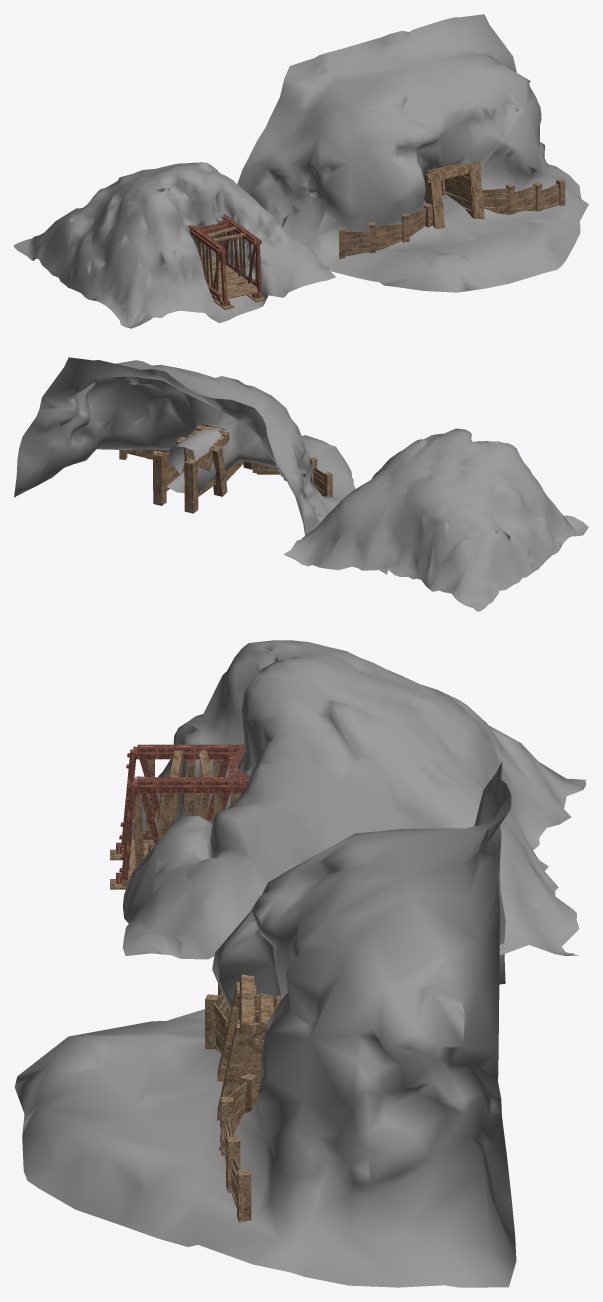
Rendered from Entrance.FBX.
3 views of the same model, one above another, from view 1: azimuth 30°, elevation 25°; view 2: azimuth 150°, elevation 25°; view 3: azimuth 270°, elevation 25° (orthographic). The views are drawn at different scales.
Visible parts, largest first — view 1: Entrance01, Entrance00, Box001, Wood, Metal; view 2: Entrance00, Entrance01, Box001; view 3: Entrance01, Entrance00, Box001, Metal, Wood.
Boxes of the visible parts, <box> form: Entrance01: <box>237,14,588,292</box>; Entrance00: <box>14,162,335,328</box>; Box001: <box>339,161,565,259</box>; Wood: <box>191,226,265,309</box>; Metal: <box>188,214,262,306</box>; Entrance00: <box>283,428,588,611</box>; Entrance01: <box>14,357,355,536</box>; Box001: <box>119,423,332,513</box>; Entrance01: <box>14,761,516,1287</box>; Entrance00: <box>122,640,586,959</box>; Box001: <box>205,974,281,1222</box>; Metal: <box>116,744,248,883</box>; Wood: <box>110,750,241,889</box>.
Bounding box in the file's own units: 352 × 108 × 178.
Materials: 4 (2 with a texture image).
